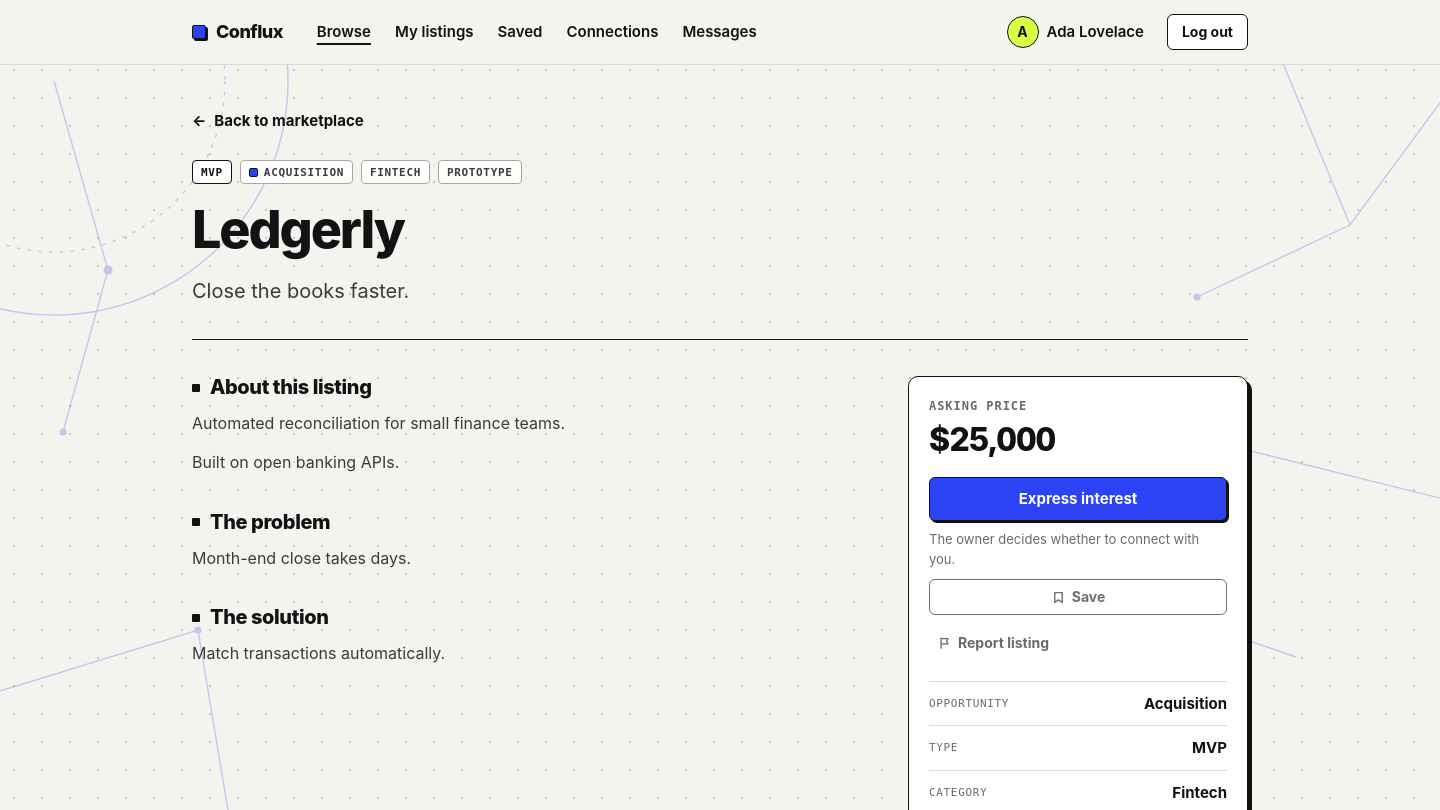
Test case: Express interest › reports an accepted request as a connection
Click the button "Express interest": coordinates (1078, 499) [929,477,1227,521]
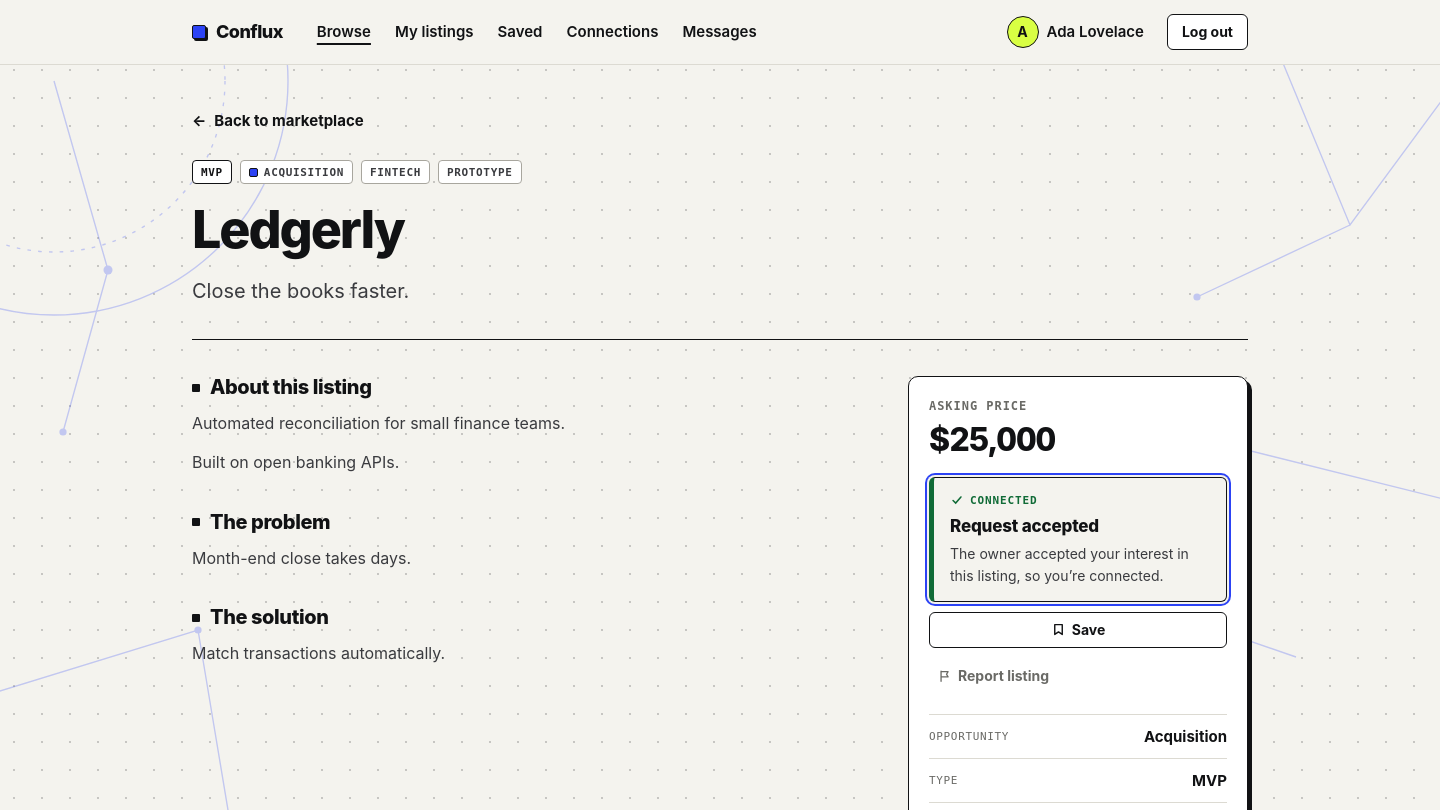
Check: the message shows "Connected", box [970,494,1038,507]
Check: the message shows "Request accepted", box [950,516,1099,536]
